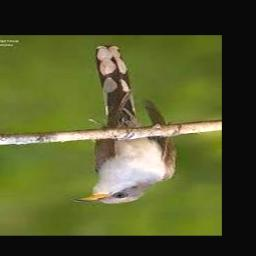Cuckoo: (71, 45, 175, 204)
